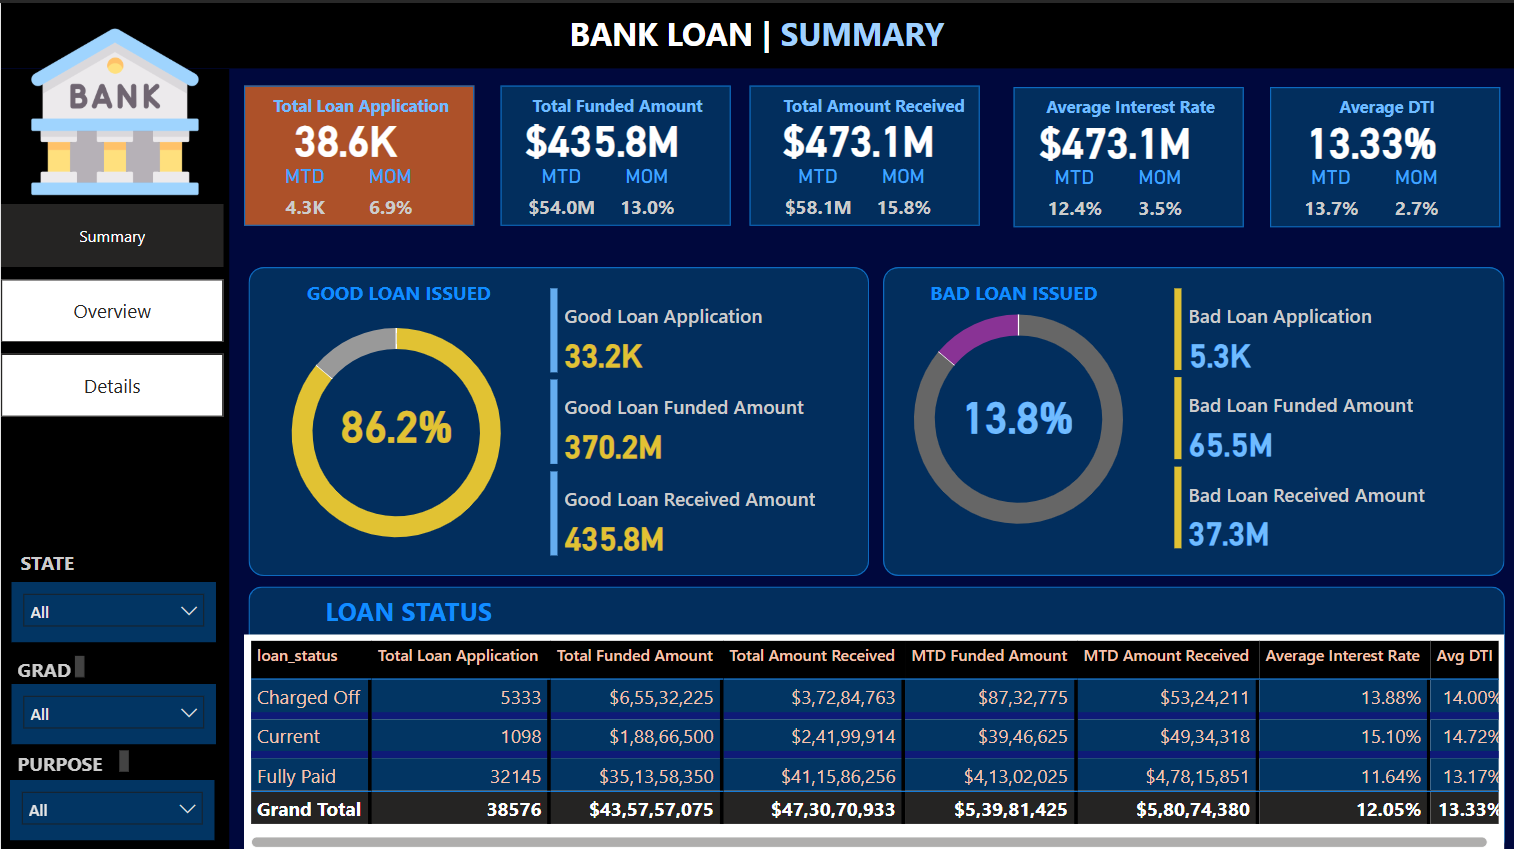

What the dashboard file says about the page in this screenshot:
{"tool":"powerbi","page":{"name":"Summary","canvas":[1280,720],"ordinal":0},"visuals":[{"type":"shape","box":[420.6,69.3,193.7,118.1],"z":0,"group":"g2"},{"type":"shape","box":[630.1,69.3,193.7,118.1],"z":0,"group":"g3"},{"type":"shape","box":[204.9,69.8,193.7,118.1],"z":0,"group":"g1"},{"type":"shape","box":[852.1,70.9,193.7,118.1],"z":0,"group":"g5"},{"type":"shape","box":[1067.9,70.9,193.7,118.1],"z":0,"group":"g4"},{"type":"shape","box":[207.9,222.1,522,260],"z":0},{"type":"card","fields":{"Values":["financial_loan.Total Funded Amount"]},"box":[420.6,70.9,170.1,85.1],"z":1000,"group":"g2"},{"type":"card","fields":{"Values":["financial_loan.Total Amount Received"]},"box":[636.4,70.9,170.1,85.1],"z":1000,"group":"g3"},{"type":"card","fields":{"Values":["financial_loan.Total Loan Application"]},"box":[204.9,71.4,170.1,85.1],"z":1000,"group":"g1"},{"type":"card","fields":{"Values":["financial_loan.Total Amount Received"]},"box":[852.1,72.5,170.1,85.1],"z":1000,"group":"g5"},{"type":"card","fields":{"Values":["financial_loan.Avg DTI"]},"box":[1067.9,72.5,170.1,85.1],"z":1000,"group":"g4"},{"type":"donutChart","fields":{"Category":["financial_loan.Good VS Bad Loan"],"Y":["financial_loan.Total Loan Application","financial_loan.Good Loan %"]},"box":[206.3,245.7,250.4,230],"z":1000},{"type":"shape","box":[0,0,1279.6,55],"z":2000},{"type":"shape","box":[0,55.4,192,664.9],"z":3000},{"type":"textbox","box":[420.6,70.9,196.9,33.1],"z":3000,"group":"g2"},{"type":"textbox","box":[636.4,70.9,196.9,33.1],"z":3000,"group":"g3"},{"type":"textbox","box":[204.9,71.4,196.9,33.1],"z":3000,"group":"g1"},{"type":"textbox","box":[852.1,72.5,196.9,33.1],"z":3000,"group":"g5"},{"type":"textbox","box":[1067.9,72.5,196.9,33.1],"z":3000,"group":"g4"},{"type":"textbox","box":[206.3,226.8,237.8,36.2],"z":4000},{"type":"card","title":"MTD","fields":{"Values":["financial_loan.MTD Funded Amount"]},"box":[395.4,135.5,152.8,56.7],"z":5000,"group":"g2"},{"type":"card","title":"MTD","fields":{"Values":["financial_loan.MTD Amount Received"]},"box":[611.2,135.5,152.8,56.7],"z":5000,"group":"g3"},{"type":"card","title":"MTD","fields":{"Values":["financial_loan.MTD Loan Application"]},"box":[179.7,136,152.8,56.7],"z":5000,"group":"g1"},{"type":"card","title":"MTD","fields":{"Values":["financial_loan.MTD Average Interest Rate"]},"box":[826.9,137.1,152.8,56.7],"z":5000,"group":"g5"},{"type":"card","title":"MTD","fields":{"Values":["financial_loan.MTD DTI"]},"box":[1042.7,137.1,152.8,56.7],"z":5000,"group":"g4"},{"type":"card","fields":{"Values":["financial_loan.Good Loan %"]},"box":[247.3,310.3,170.1,85.1],"z":5000},{"type":"textbox","box":[472.9,2.6,335,49],"z":6000},{"type":"group","id":"g1","title":"Group 1","box":[179.7,69.8,225.2,122.9],"z":7000},{"type":"card","title":"MOM","fields":{"Values":["financial_loan.MOM Funded Amount"]},"box":[467.9,135.5,152.8,56.7],"z":7000,"group":"g2"},{"type":"card","title":"MOM","fields":{"Values":["financial_loan.MOM Amount Received"]},"box":[683.7,135.5,152.8,56.7],"z":7000,"group":"g3"},{"type":"card","title":"MOM","fields":{"Values":["financial_loan.MOM Loan Application"]},"box":[252.2,136,152.8,56.7],"z":7000,"group":"g1"},{"type":"card","title":"MOM","fields":{"Values":["financial_loan.MOM Avg Interest Rate"]},"box":[899.4,137.1,152.8,56.7],"z":7000,"group":"g5"},{"type":"card","title":"MOM","fields":{"Values":["financial_loan.MOM DTI"]},"box":[1115.2,137.1,152.8,56.7],"z":7000,"group":"g4"},{"type":"group","id":"g2","title":"Group 1","box":[395.4,69.3,225.2,122.9],"z":8000},{"type":"group","id":"g3","title":"Group 1","box":[611.2,69.3,225.2,122.9],"z":9000},{"type":"group","id":"g4","title":"Group 1","box":[1042.7,70.9,225.2,122.9],"z":10000},{"type":"group","id":"g5","title":"Group 1","box":[826.9,70.9,225.2,122.9],"z":11000},{"type":"shape","box":[741.9,222.1,522.9,259.9],"z":12000},{"type":"cardVisual","fields":{"Data":["financial_loan.Good Loan Application","financial_loan.Good Loan Funded Amount","financial_loan.Good Loan Received Amount"]},"box":[456.8,234.7,261.5,236.3],"z":13000},{"type":"donutChart","fields":{"Y":["financial_loan.Total Loan Application","financial_loan.Bad Loan %"],"Category":["financial_loan.Good VS Bad Loan"]},"box":[731.1,234.9,250,230],"z":14000},{"type":"card","fields":{"Values":["financial_loan.Bad Loan %"]},"box":[770.2,302.4,170.1,85.1],"z":15000},{"type":"cardVisual","fields":{"Data":["financial_loan.Bad Loan Application","financial_loan.Bad Loan Funded Amount","financial_loan.Bad Loan Received Amount"]},"box":[981.3,234.7,259.9,230],"z":16000},{"type":"textbox","box":[724.5,226.8,237.8,36.2],"z":17000},{"type":"shape","box":[207.9,491.4,1056.9,223.7],"z":18000},{"type":"tableEx","fields":{"Values":["financial_loan.loan_status","financial_loan.Total Loan Application","financial_loan.Total Funded Amount","financial_loan.Total Amount Received","financial_loan.MTD Funded Amount","financial_loan.MTD Amount Received","financial_loan.Average Interest Rate","financial_loan.Avg DTI"]},"box":[204.8,530.8,1060,184.3],"z":19000},{"type":"textbox","box":[230,491.4,226.8,39.4],"z":20000},{"type":"slicer","fields":{"Values":["financial_loan.address_state"]},"box":[9.5,486.7,171.7,50.4],"z":21000},{"type":"textbox","box":[11,453.6,66.2,37.8],"z":22000},{"type":"slicer","fields":{"Values":["financial_loan.grade"]},"box":[9.5,573.3,171.7,50.4],"z":23000},{"type":"textbox","box":[9.5,543.4,66.2,37.8],"z":24000},{"type":"slicer","fields":{"Values":["financial_loan.purpose"]},"box":[7.9,653.7,171.7,50.4],"z":25000},{"type":"textbox","box":[9.5,623.7,104,29.9],"z":26000},{"type":"pageNavigator","box":[0,168.5,187.4,179.6],"z":27000},{"type":"image","box":[20.5,15.8,151.2,152.8],"z":28000}]}

Visuals, with their boxes on the page's 1280x720 design canvas (x1, y1, x2, y2). These are canvas units, not pixel positions in the 1514x849 screenshot, which may show the page scaled, cropped or inside an application window:
shape: [x1=421, y1=69, x2=614, y2=187]
shape: [x1=630, y1=69, x2=824, y2=187]
shape: [x1=205, y1=70, x2=399, y2=188]
shape: [x1=852, y1=71, x2=1046, y2=189]
shape: [x1=1068, y1=71, x2=1262, y2=189]
shape: [x1=208, y1=222, x2=730, y2=482]
card - financial_loan.Total Funded Amount: [x1=421, y1=71, x2=591, y2=156]
card - financial_loan.Total Amount Received: [x1=636, y1=71, x2=806, y2=156]
card - financial_loan.Total Loan Application: [x1=205, y1=71, x2=375, y2=156]
card - financial_loan.Total Amount Received: [x1=852, y1=72, x2=1022, y2=158]
card - financial_loan.Avg DTI: [x1=1068, y1=72, x2=1238, y2=158]
donutChart - financial_loan.Good VS Bad Loan x financial_loan.Total Loan Application: [x1=206, y1=246, x2=457, y2=476]
shape: [x1=0, y1=0, x2=1280, y2=55]
shape: [x1=0, y1=55, x2=192, y2=720]
textbox: [x1=421, y1=71, x2=618, y2=104]
textbox: [x1=636, y1=71, x2=833, y2=104]
textbox: [x1=205, y1=71, x2=402, y2=104]
textbox: [x1=852, y1=72, x2=1049, y2=106]
textbox: [x1=1068, y1=72, x2=1265, y2=106]
textbox: [x1=206, y1=227, x2=444, y2=263]
"MTD" card: [x1=395, y1=136, x2=548, y2=192]
"MTD" card: [x1=611, y1=136, x2=764, y2=192]
"MTD" card: [x1=180, y1=136, x2=332, y2=193]
"MTD" card: [x1=827, y1=137, x2=980, y2=194]
"MTD" card: [x1=1043, y1=137, x2=1196, y2=194]
card - financial_loan.Good Loan %: [x1=247, y1=310, x2=417, y2=395]
textbox: [x1=473, y1=3, x2=808, y2=52]
"Group 1" group: [x1=180, y1=70, x2=405, y2=193]
"MOM" card: [x1=468, y1=136, x2=621, y2=192]
"MOM" card: [x1=684, y1=136, x2=836, y2=192]
"MOM" card: [x1=252, y1=136, x2=405, y2=193]
"MOM" card: [x1=899, y1=137, x2=1052, y2=194]
"MOM" card: [x1=1115, y1=137, x2=1268, y2=194]
"Group 1" group: [x1=395, y1=69, x2=621, y2=192]
"Group 1" group: [x1=611, y1=69, x2=836, y2=192]
"Group 1" group: [x1=1043, y1=71, x2=1268, y2=194]
"Group 1" group: [x1=827, y1=71, x2=1052, y2=194]
shape: [x1=742, y1=222, x2=1265, y2=482]
cardVisual - financial_loan.Good Loan Application x financial_loan.Good Loan Funded Amount: [x1=457, y1=235, x2=718, y2=471]
donutChart - financial_loan.Total Loan Application x financial_loan.Bad Loan %: [x1=731, y1=235, x2=981, y2=465]
card - financial_loan.Bad Loan %: [x1=770, y1=302, x2=940, y2=388]
cardVisual - financial_loan.Bad Loan Application x financial_loan.Bad Loan Funded Amount: [x1=981, y1=235, x2=1241, y2=465]
textbox: [x1=724, y1=227, x2=962, y2=263]
shape: [x1=208, y1=491, x2=1265, y2=715]
tableEx - financial_loan.loan_status x financial_loan.Total Loan Application: [x1=205, y1=531, x2=1265, y2=715]
textbox: [x1=230, y1=491, x2=457, y2=531]
slicer - financial_loan.address_state: [x1=10, y1=487, x2=181, y2=537]
textbox: [x1=11, y1=454, x2=77, y2=491]
slicer - financial_loan.grade: [x1=10, y1=573, x2=181, y2=624]
textbox: [x1=10, y1=543, x2=76, y2=581]
slicer - financial_loan.purpose: [x1=8, y1=654, x2=180, y2=704]
textbox: [x1=10, y1=624, x2=114, y2=654]
pageNavigator: [x1=0, y1=168, x2=187, y2=348]
image: [x1=20, y1=16, x2=172, y2=169]
